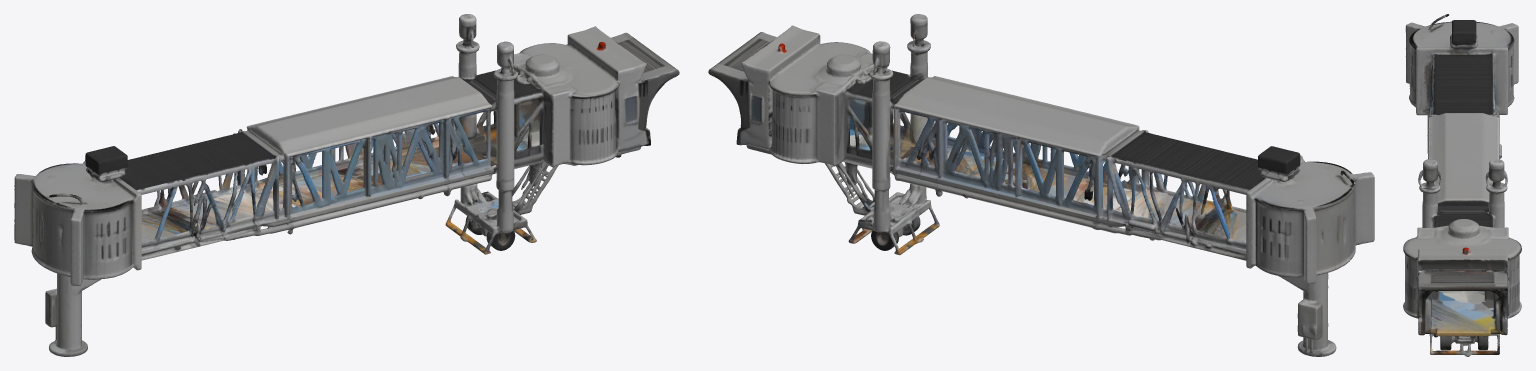
File: airport_jetway.glb
The picture shows the model from 3 angles, left to right: view 1: azimuth 30°, elevation 25°; view 2: azimuth 150°, elevation 25°; view 3: azimuth 270°, elevation 25°; orthographic projection. The views are drawn at different scales.
Parts seen in each view (by area): view 1: tripo_node_2b1c55a7-e706-4d94-99a0-894a1cf885d1_0; view 2: tripo_node_2b1c55a7-e706-4d94-99a0-894a1cf885d1_0; view 3: tripo_node_2b1c55a7-e706-4d94-99a0-894a1cf885d1_0.
Part boxes in pixels (x1,y1,x2,y2): tripo_node_2b1c55a7-e706-4d94-99a0-894a1cf885d1_0: (14, 14, 679, 356); tripo_node_2b1c55a7-e706-4d94-99a0-894a1cf885d1_0: (708, 14, 1374, 356); tripo_node_2b1c55a7-e706-4d94-99a0-894a1cf885d1_0: (1403, 14, 1521, 356).
Bounding box in the file's own units: 1 × 0.3376 × 0.1905.
Materials: 1 (1 with a texture image).
